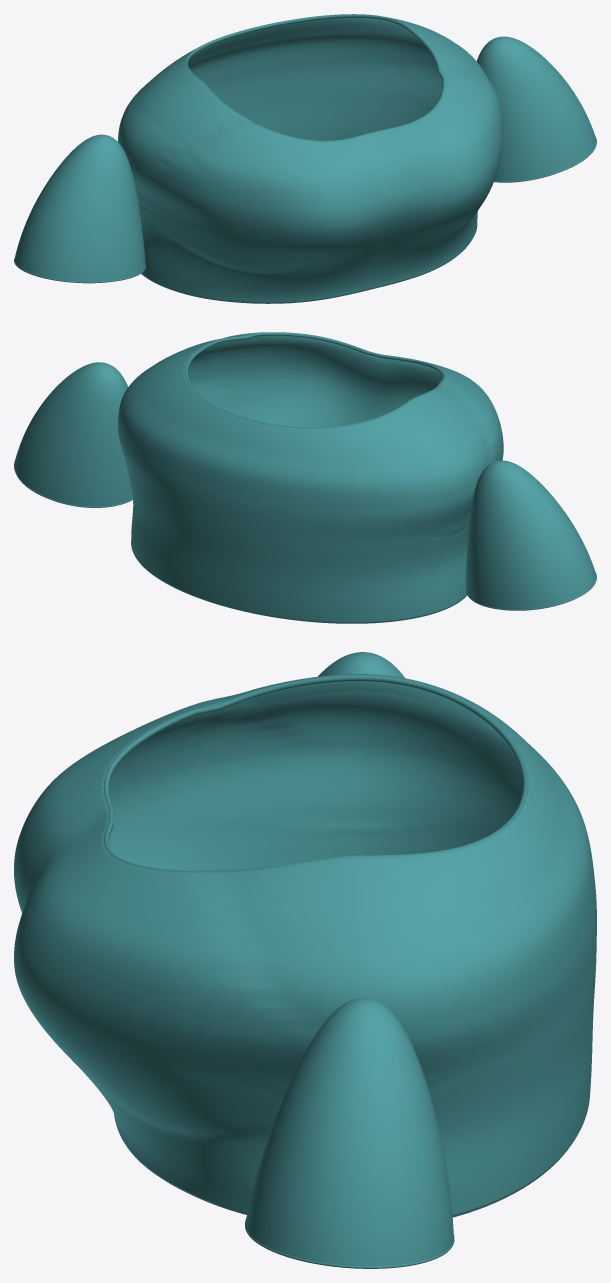
File: Feminine-tshirt-top.glb
3 renders of one model, top to bottom at view 1: azimuth 30°, elevation 25°; view 2: azimuth 150°, elevation 25°; view 3: azimuth 270°, elevation 25°, orthographic. The views are drawn at different scales.
Visible parts, largest first — view 1: Clothing / tshirt, Sleeve / floating fabric -1, Sleeve / floating fabric 1, Neckline / fitted crew export, Shirt / seated hem export; view 2: Clothing / tshirt, Sleeve / floating fabric -1, Sleeve / floating fabric 1, Neckline / fitted crew export, Shirt / seated hem export; view 3: Clothing / tshirt, Sleeve / floating fabric 1, Neckline / fitted crew export, Sleeve / floating fabric -1.
Part boxes in pixels (left/top/right/bottom): Clothing / tshirt: left=118, top=17, right=503, bottom=302; Sleeve / floating fabric -1: left=14, top=134, right=145, bottom=281; Sleeve / floating fabric 1: left=476, top=36, right=596, bottom=181; Neckline / fitted crew export: left=185, top=14, right=445, bottom=141; Shirt / seated hem export: left=141, top=246, right=467, bottom=303; Clothing / tshirt: left=118, top=332, right=503, bottom=622; Sleeve / floating fabric -1: left=466, top=460, right=596, bottom=609; Sleeve / floating fabric 1: left=14, top=362, right=132, bottom=506; Neckline / fitted crew export: left=185, top=332, right=445, bottom=428; Shirt / seated hem export: left=141, top=565, right=466, bottom=623; Clothing / tshirt: left=14, top=674, right=596, bottom=1215; Sleeve / floating fabric 1: left=245, top=998, right=453, bottom=1266; Neckline / fitted crew export: left=103, top=675, right=528, bottom=872; Sleeve / floating fabric -1: left=318, top=652, right=404, bottom=678.
Bounding box in the file's own units: 1.1 × 0.3438 × 0.5531.
